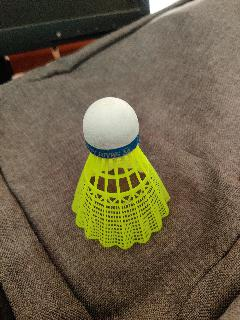shuttlecock: (71, 96, 169, 246)
